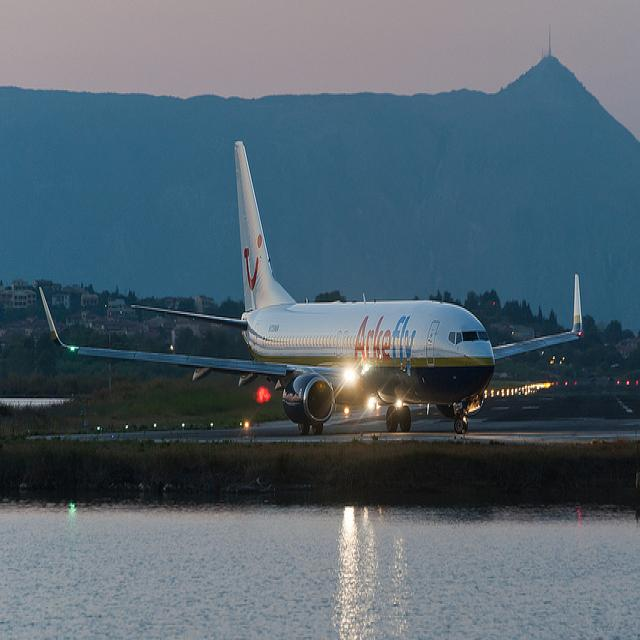airplane: (37, 136, 585, 440)
